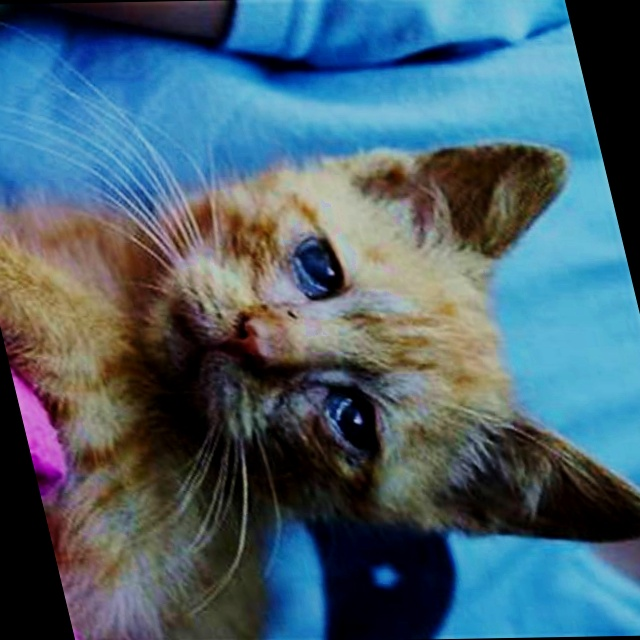eye_infection: (318, 386, 393, 469), (282, 230, 356, 299)
